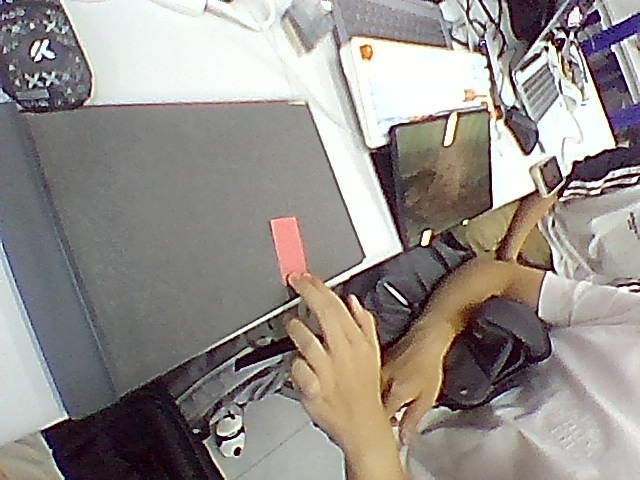card: (270, 217, 307, 285)
